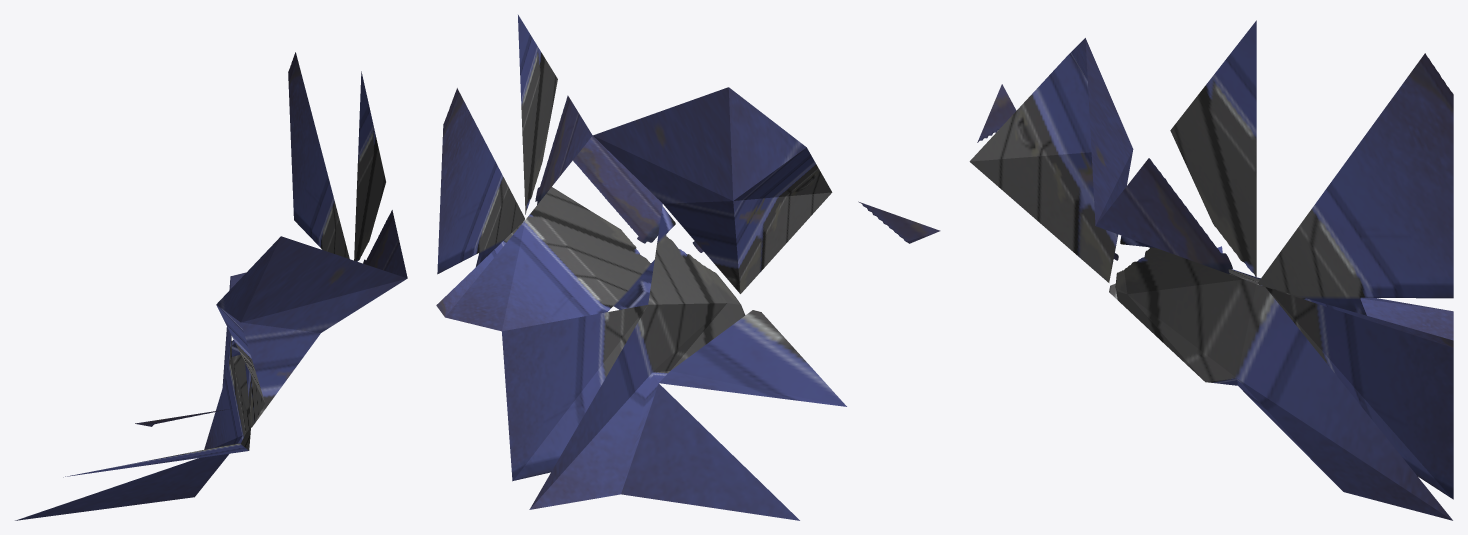
3 renders of one model, left to right at view 1: azimuth 30°, elevation 25°; view 2: azimuth 150°, elevation 25°; view 3: azimuth 270°, elevation 25°, orthographic. The views are drawn at different scales.
Bounding box in the file's own units: 1.05 × 1.28 × 0.9919.
